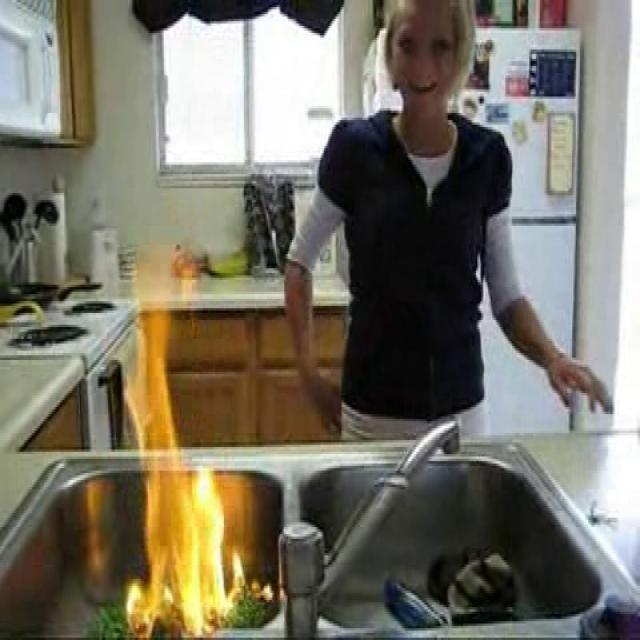Fire: (122, 280, 248, 616)
